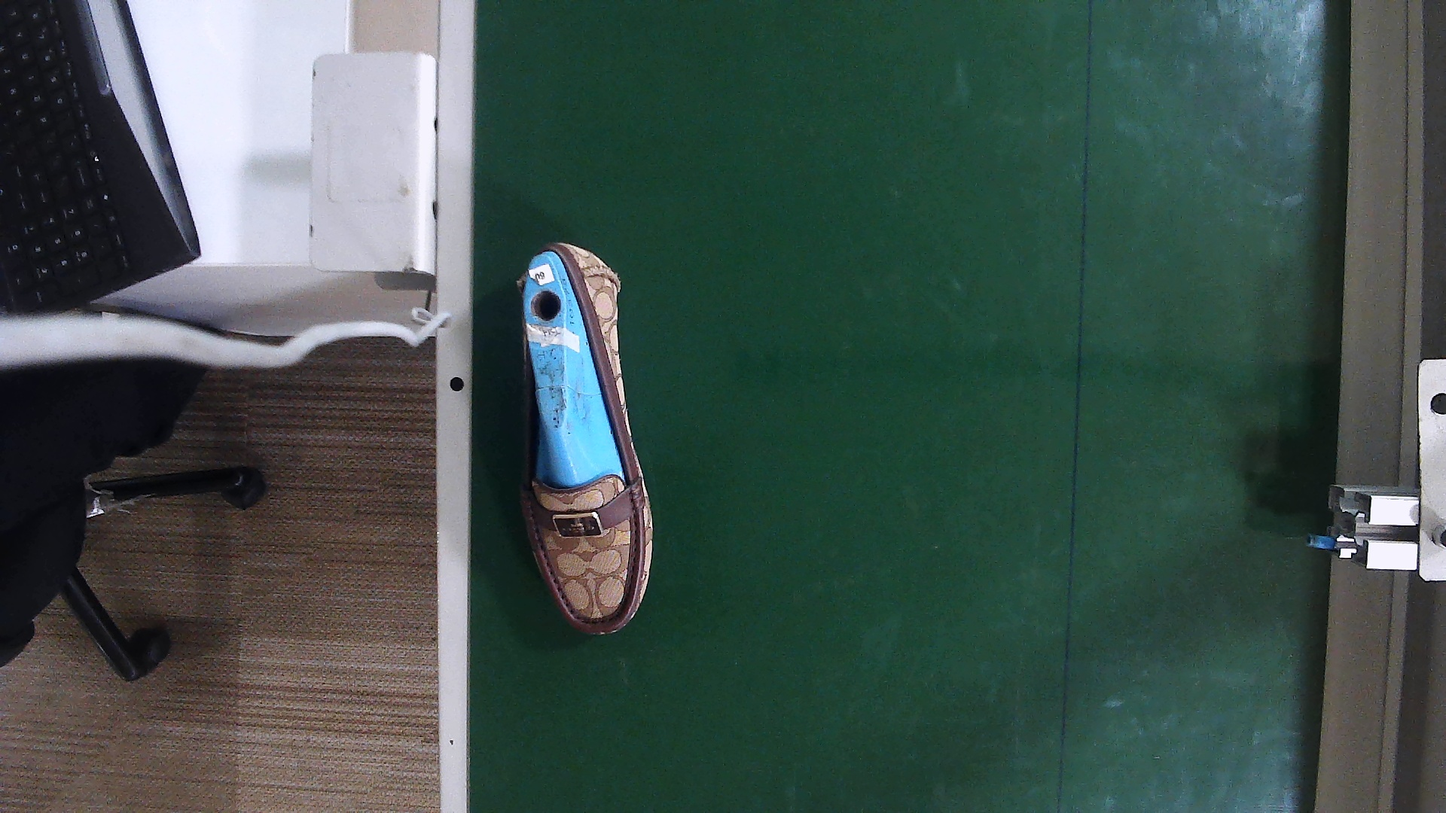shoe: (520, 244, 651, 634)
